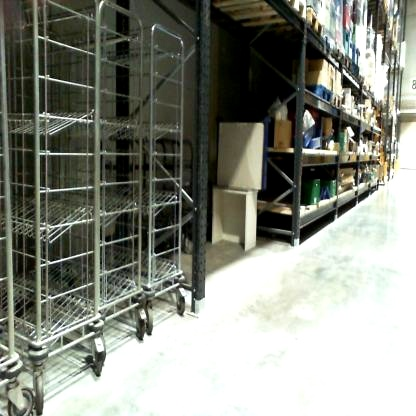pallets: (244, 0, 375, 91)
